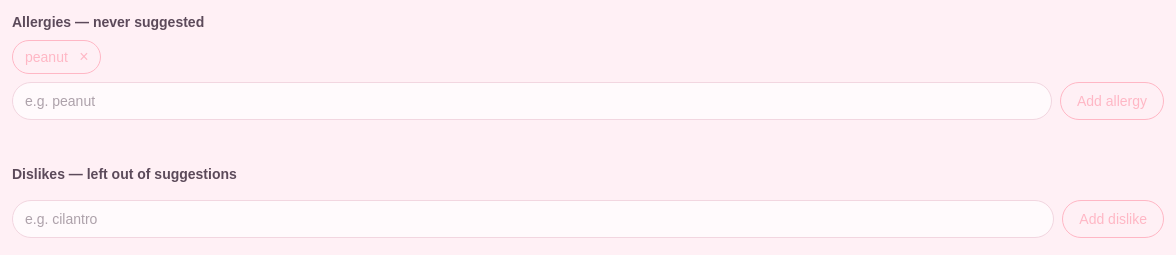
Scenario: CookingExclusions (#500) › a failed save rolls back a removal too
This screenshot has width=1176, height=255.
Click the button named "Remove peanut". click: [84, 57]
box: [72, 45, 96, 69]
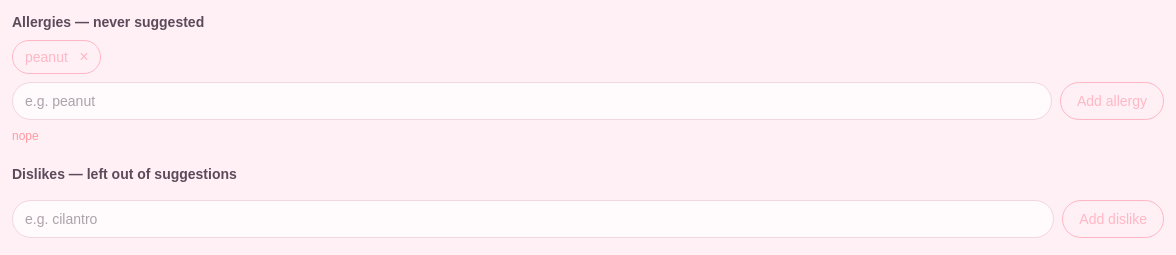
Expected: the text "peanut" is shown, [25, 47, 68, 67]
Result: the text "nope" is shown at [12, 129, 39, 143]
